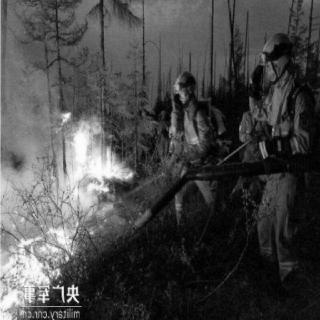Fire: (67, 113, 129, 196), (63, 112, 71, 125)
other: (238, 28, 312, 284), (23, 281, 85, 315)
